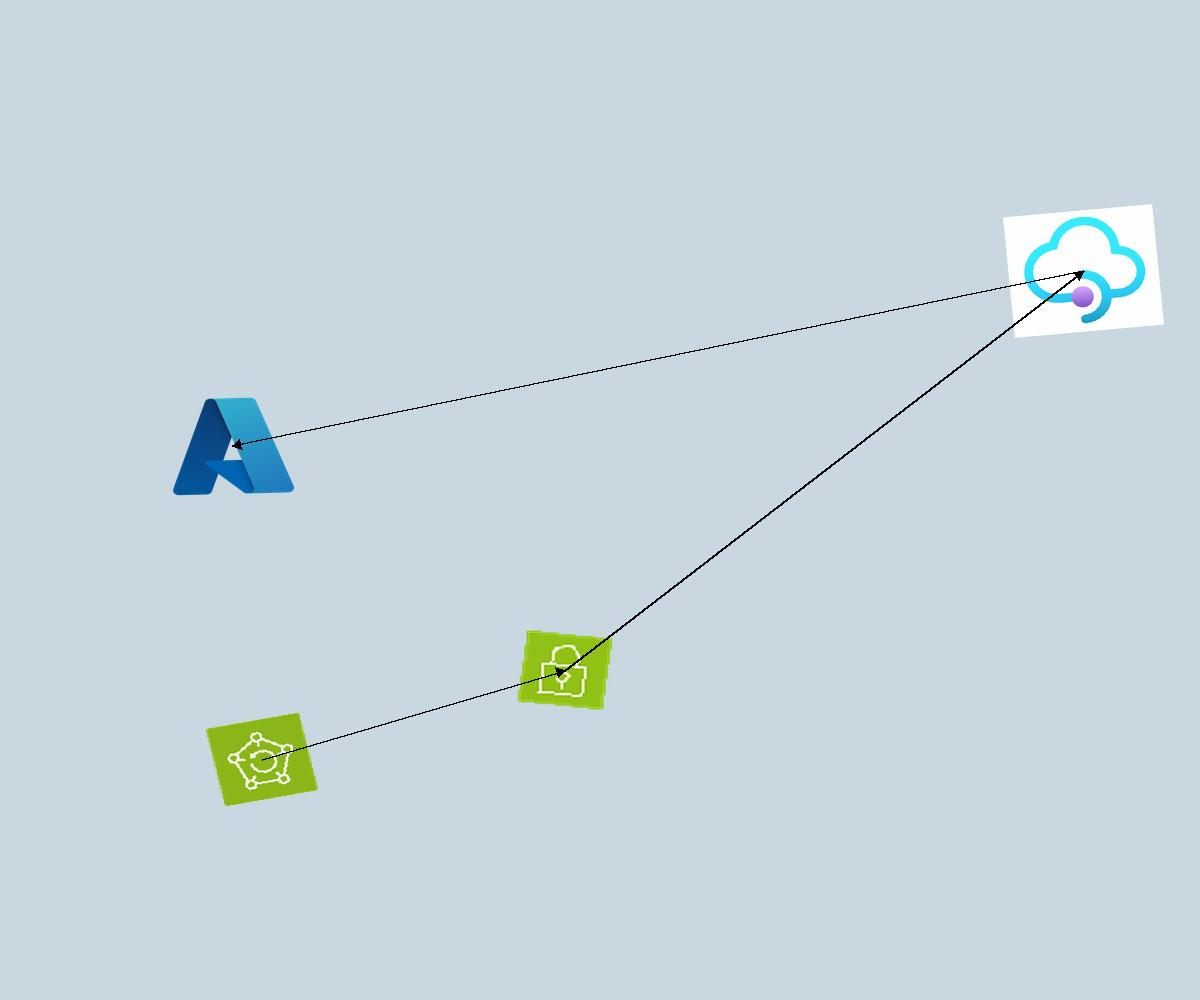AWS-Backup: (205, 712, 319, 807)
AWS-Public-subnet: (516, 629, 614, 711)
Azure_api_gateway: (1003, 204, 1164, 338)
Azure_services: (164, 389, 300, 503)
